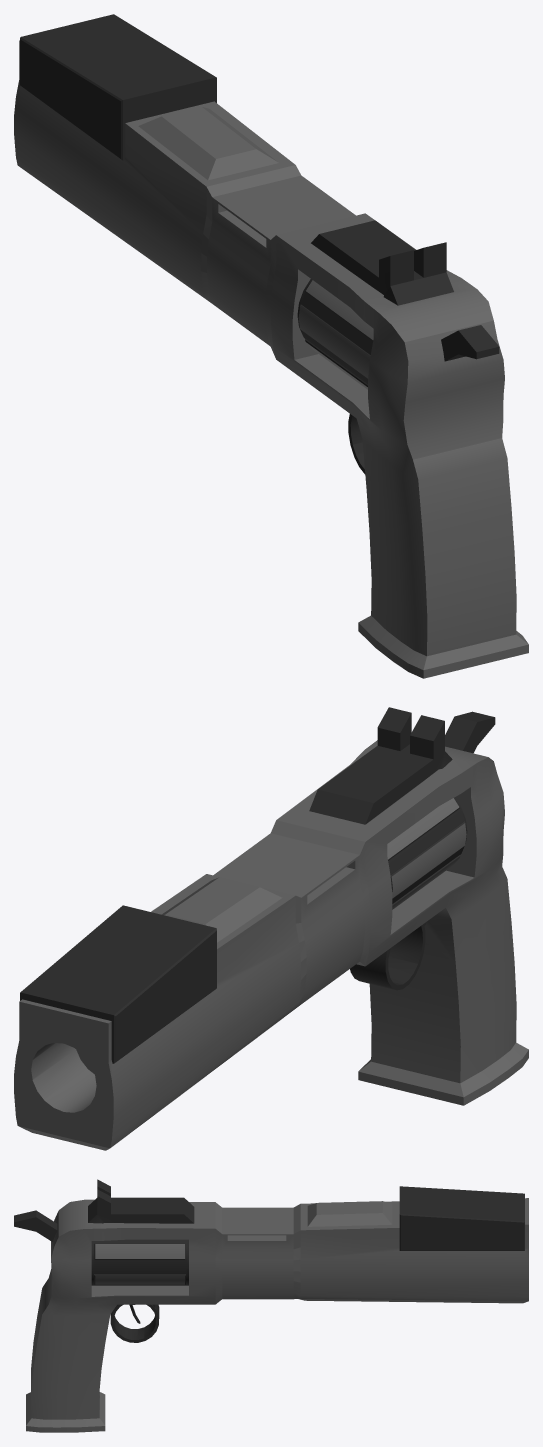
The model's file is Gun_Worm.fbx.
The picture shows the model from 3 angles, top to bottom: view 1: azimuth 30°, elevation 25°; view 2: azimuth 150°, elevation 25°; view 3: azimuth 270°, elevation 25°; orthographic projection. The views are drawn at different scales.
Parts seen in each view (by area): view 1: pCube19; view 2: pCube19; view 3: pCube19.
Part boxes in pixels (x1=…): pCube19: x1=14, y1=14, x2=528, y2=678; pCube19: x1=14, y1=707, x2=528, y2=1150; pCube19: x1=14, y1=1179, x2=528, y2=1432.
Bounding box in the file's own units: 1.6 × 4.94 × 10.1.
